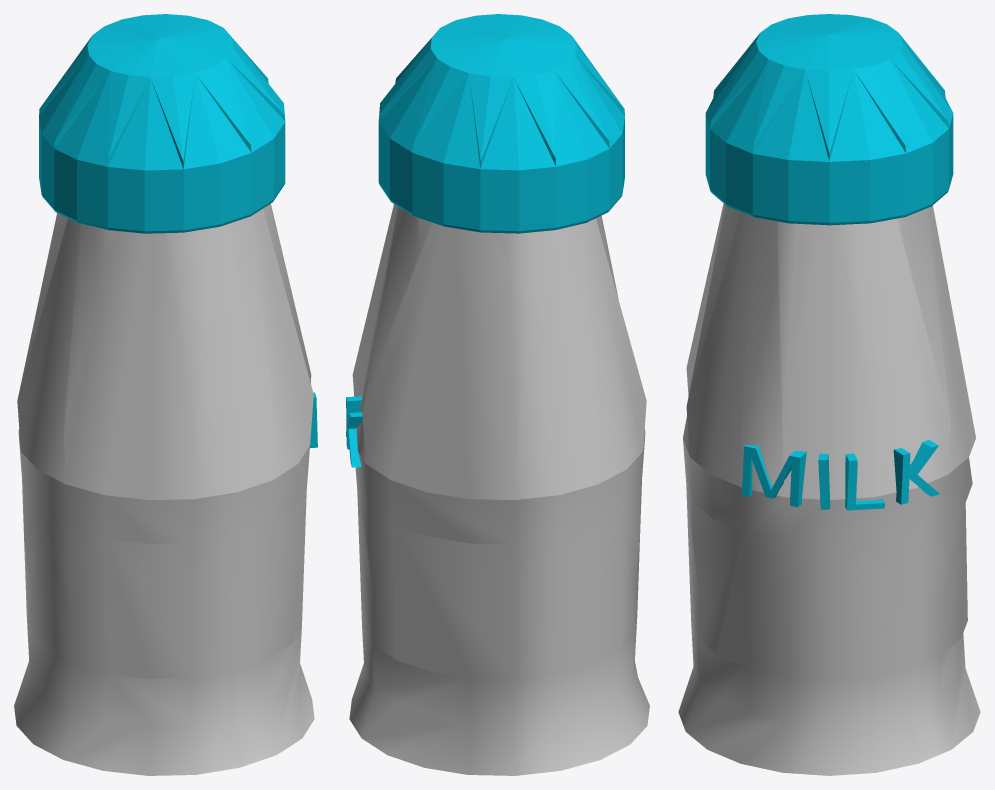
File: milkLP.fbx
3 views of the same model, side by side, from view 1: azimuth 30°, elevation 25°; view 2: azimuth 150°, elevation 25°; view 3: azimuth 270°, elevation 25° (orthographic).
Parts seen in each view (by area): view 1: polySurface1, polySurface2; view 2: polySurface1, polySurface2, typeMesh1; view 3: polySurface1, polySurface2, typeMesh1.
Boxes of the visible parts, x1,y1,x2,y2 form: polySurface1: (14, 203, 314, 775); polySurface2: (39, 14, 285, 233); polySurface1: (349, 204, 649, 775); polySurface2: (378, 14, 624, 233); typeMesh1: (346, 396, 362, 467); polySurface1: (678, 203, 980, 775); polySurface2: (705, 14, 953, 225); typeMesh1: (742, 440, 939, 510).
Size of the model in its own units: 2.02 by 4.93 by 2.
